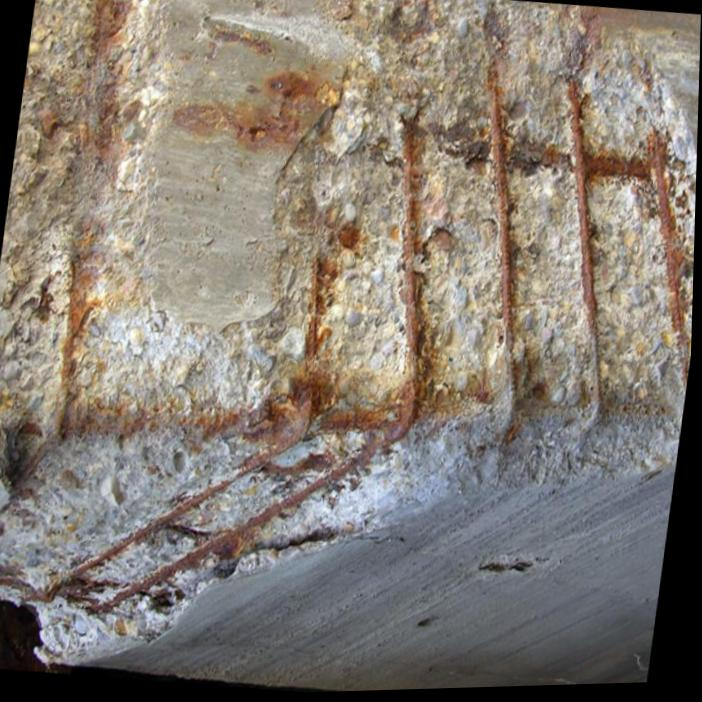damage: (0, 0, 698, 671)
